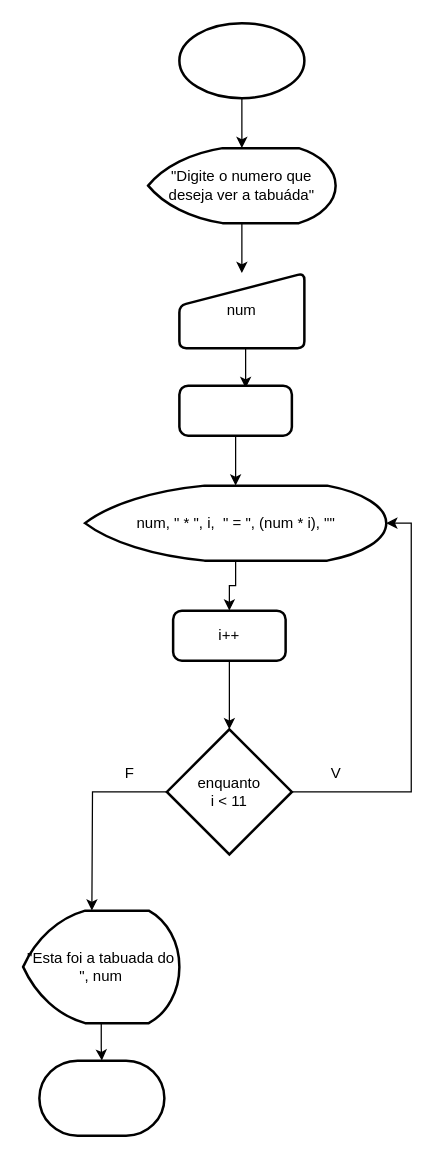
The diagram is 443 pixels wide and 1158 high, and some of its shapes have lost their labels. Here are the shapes that lost their labels. From the top down, the centre of each, then its label:
At pixel 241 60: "Inicio".
At pixel 235 410: "i <- 1".
At pixel 101 1097: "Fim".
